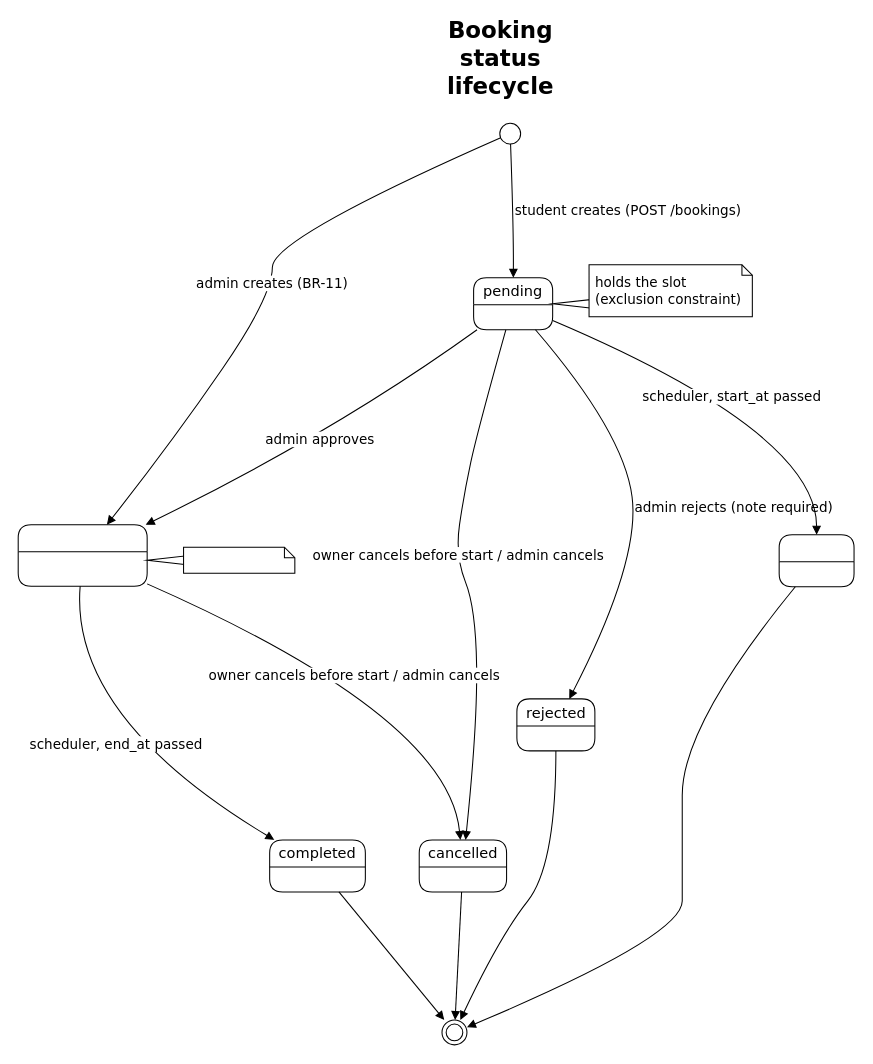
The diagram is 873 pixels wide and 1064 high, and some of its shapes have lost their labels. Here are the shapes that lost their labels. From the top down, the centre of each, then its label:
At pixel 82 555: "approved".
At pixel 239 559: "holds the slot".
At pixel 816 560: "expired".
